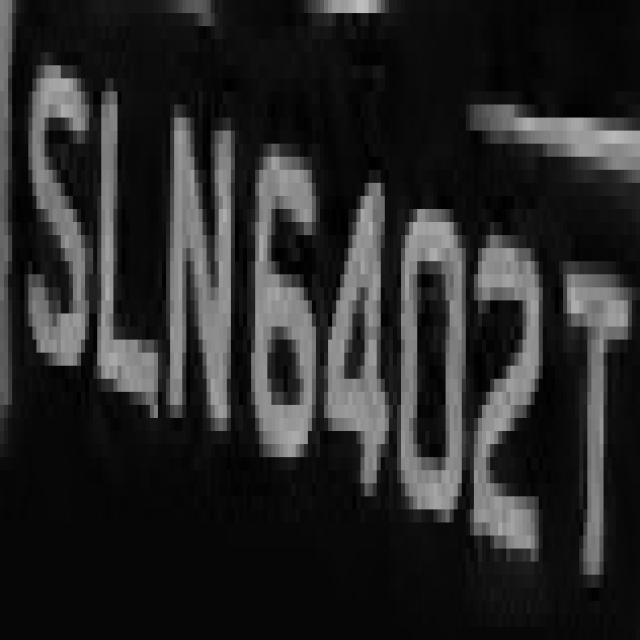0: (393, 156, 474, 574)
2: (470, 196, 543, 575)
4: (320, 130, 397, 510)
6: (251, 118, 328, 510)
L: (85, 26, 162, 431)
N: (154, 52, 251, 522)
S: (24, 26, 89, 379)
T: (551, 170, 628, 588)
